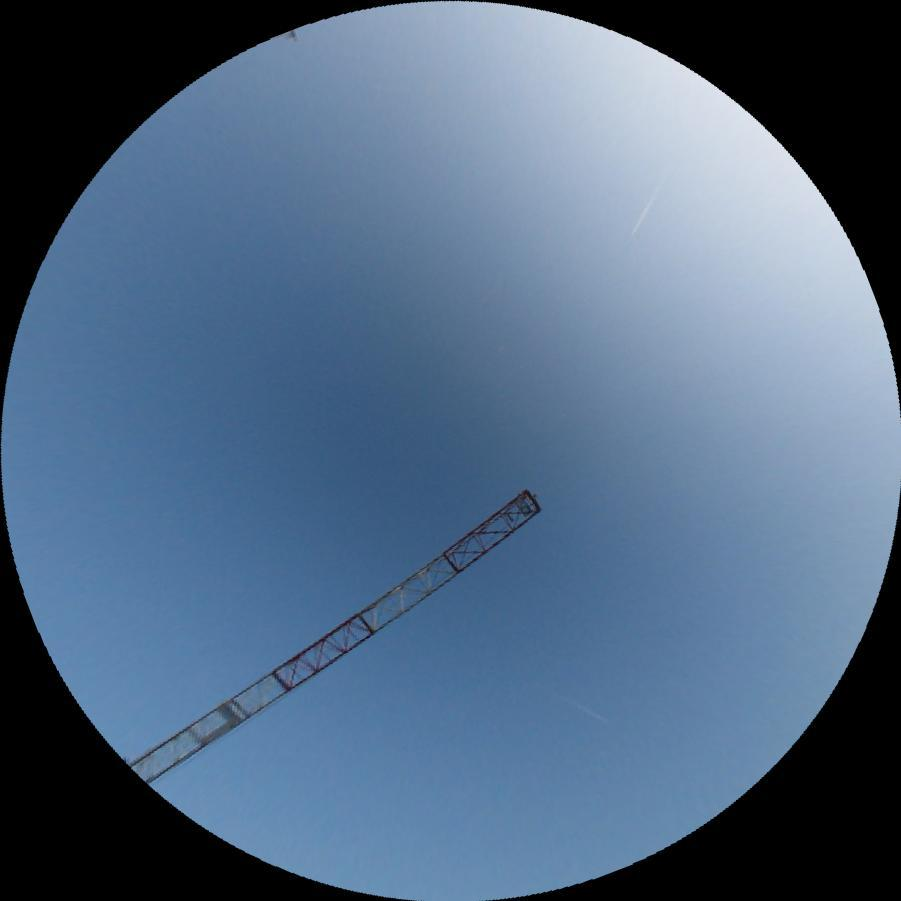contrail young: (627, 176, 666, 237), (557, 693, 609, 725)
